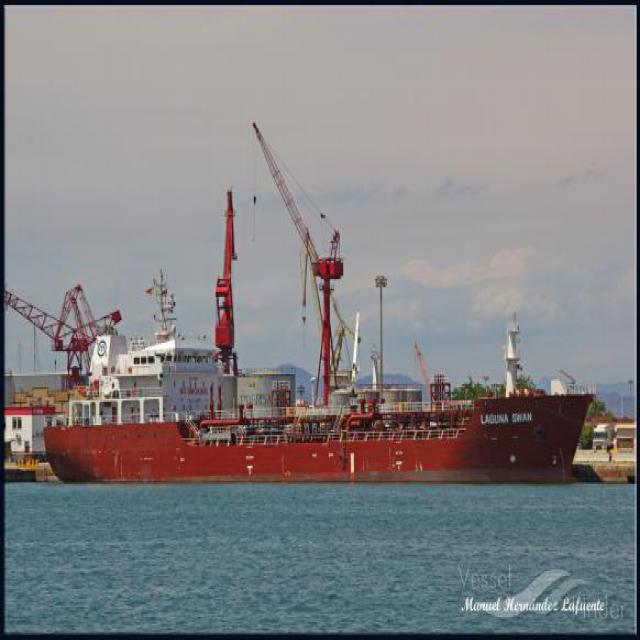OCR: (476, 404, 543, 430)
